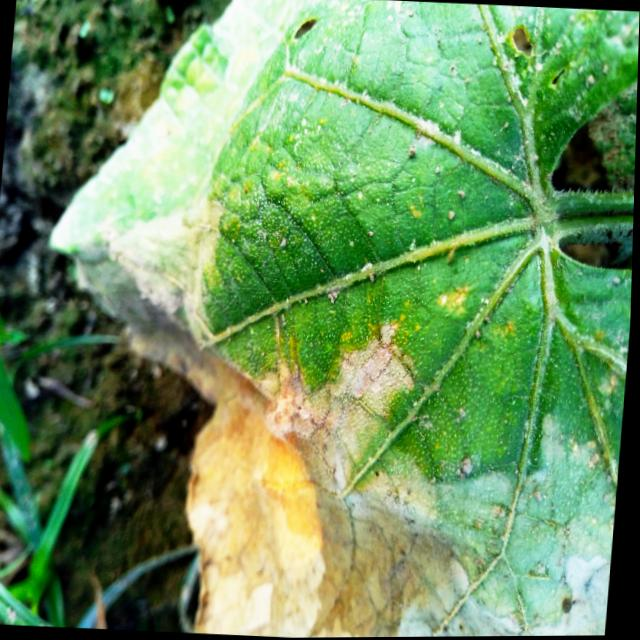Gummy-Stem-Blight: (170, 306, 630, 639)
